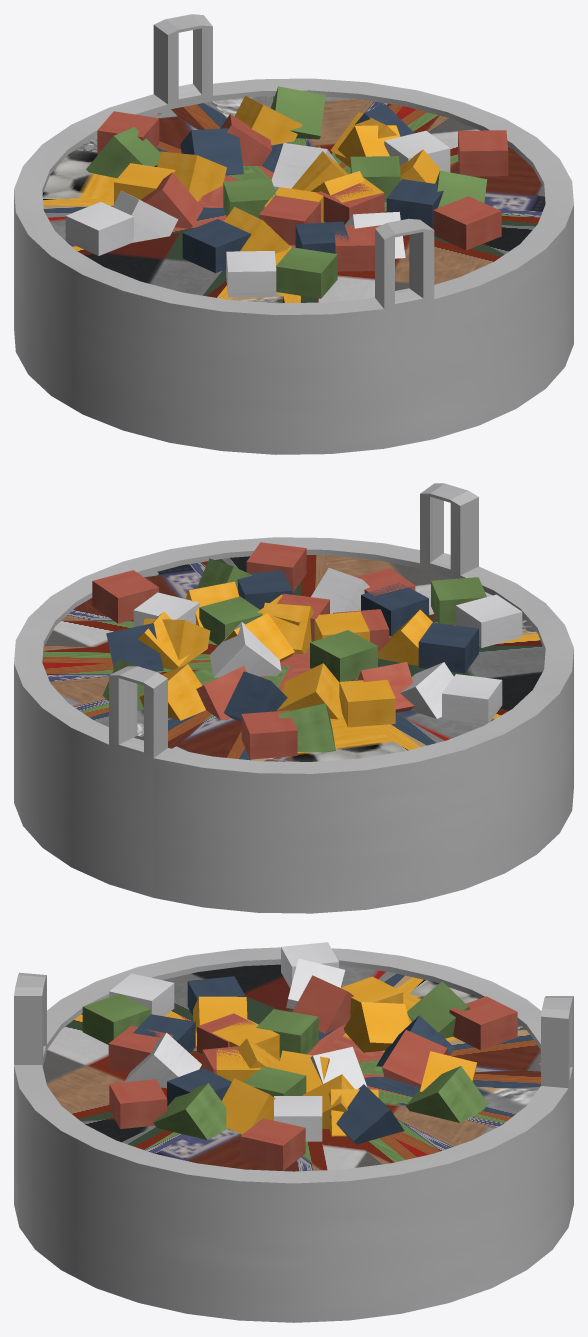
Rendered from juguetes.fbx.
3 renders of one model, top to bottom at view 1: azimuth 30°, elevation 25°; view 2: azimuth 150°, elevation 25°; view 3: azimuth 270°, elevation 25°, orthographic.
Visible parts, largest first — view 1: Cylinder.002; view 2: Cylinder.002; view 3: Cylinder.002.
Boxes of the visible parts, bbox=[...] form: Cylinder.002: bbox=[14, 14, 573, 454]; Cylinder.002: bbox=[14, 483, 573, 913]; Cylinder.002: bbox=[14, 942, 573, 1322].
Bounding box in the file's own units: 200 × 83.47 × 200.
